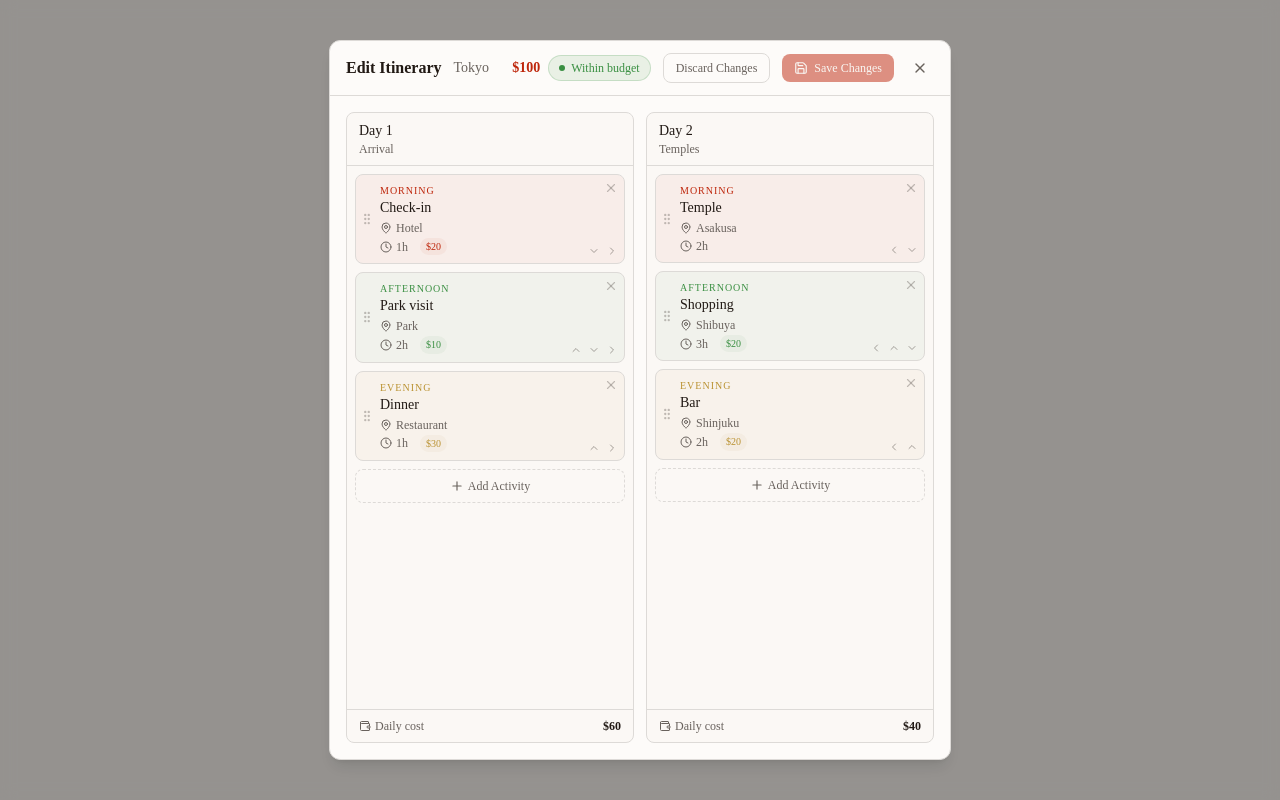
it: ItineraryEditor › shows discard confirmation when there are unsaved changes
The image size is (1280, 800).
Click the 1st button named "Remove Activity". click: (611, 188)
box: [602,179,620,197]
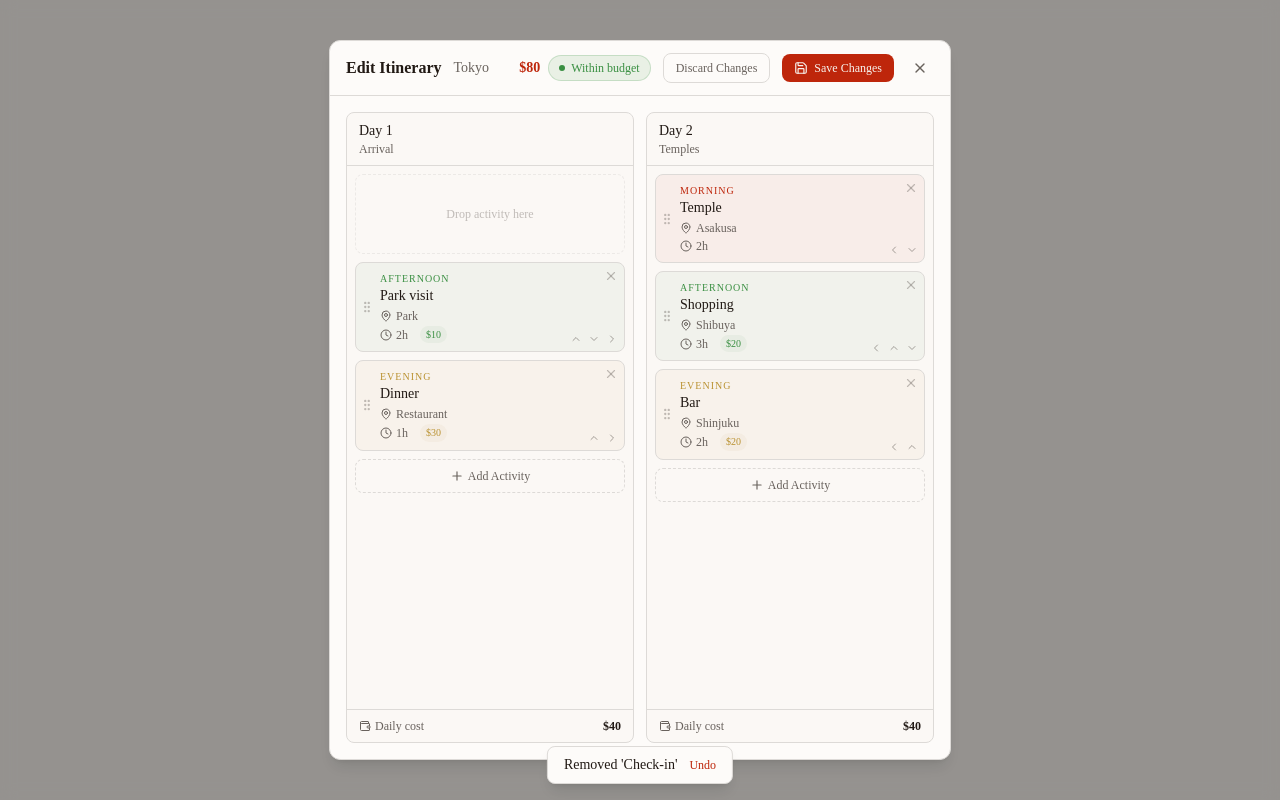
Click the button "Discard Changes". click: (717, 68)
box: [663,53,770,83]
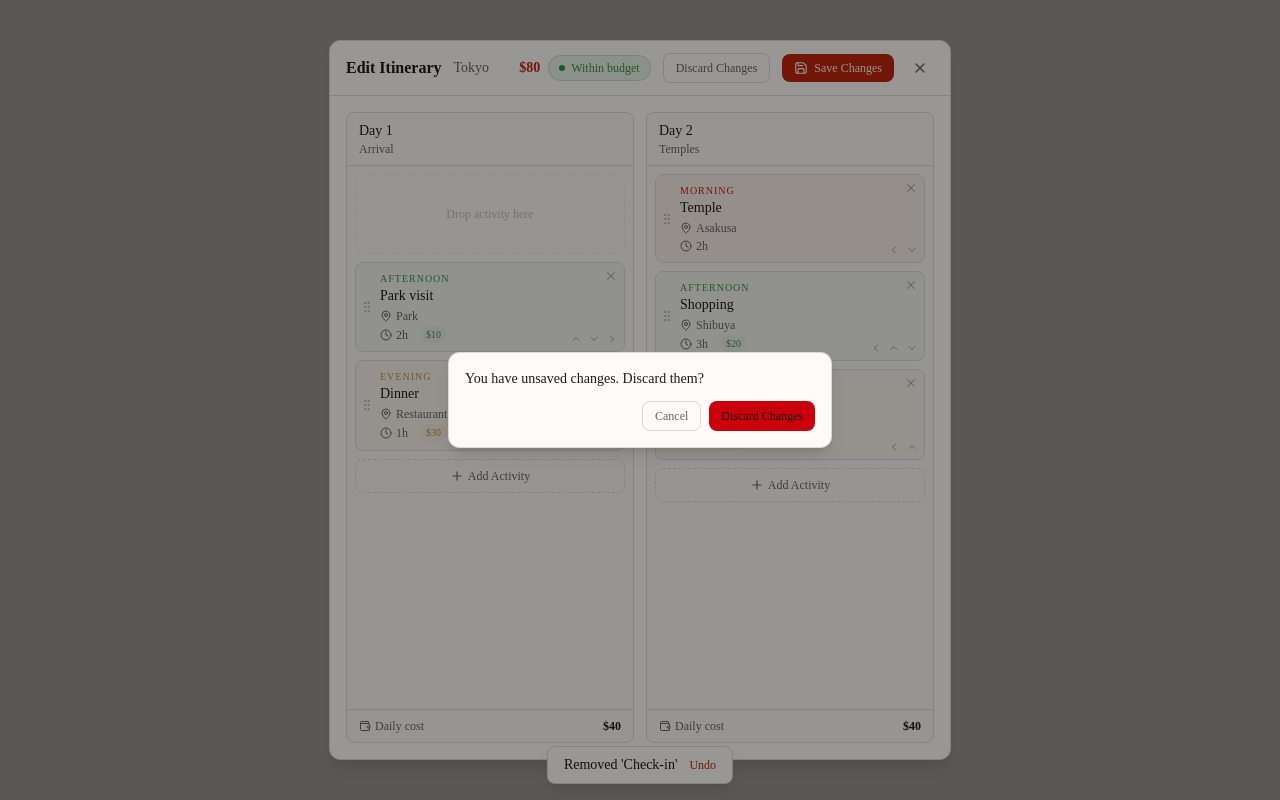
Expected: the text "You have unsaved changes. Discard them?" is shown, [465,371,704,386]
